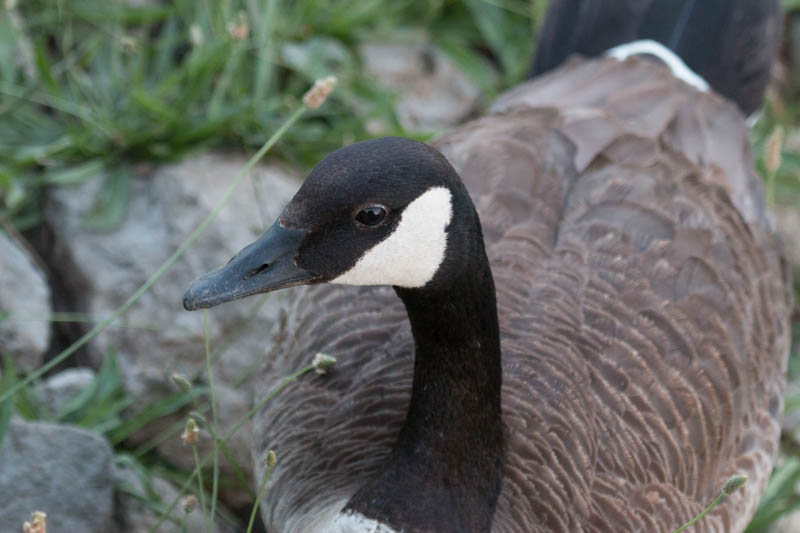goose-head: (182, 137, 484, 313)
